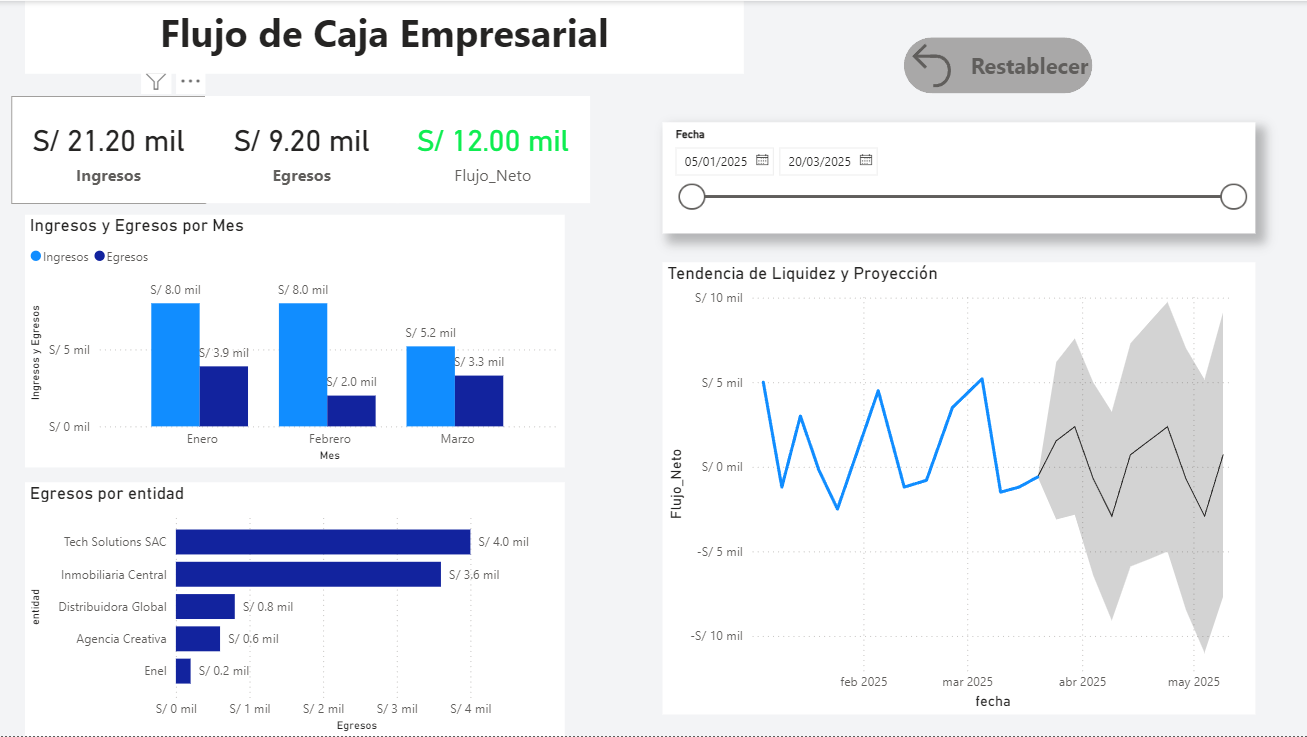

Layout of this report page (visuals, bound fields, positions):
{"tool":"powerbi","page":{"name":"Página 1","canvas":[1280,720],"ordinal":0},"visuals":[{"type":"card","fields":{"Values":["transacciones.Ingresos"]},"box":[11,92.9,190.8,105.2],"z":0},{"type":"card","fields":{"Values":["transacciones.Egresos"]},"box":[200.5,92.9,189.5,105.2],"z":1000},{"type":"card","fields":{"Values":["transacciones.Flujo_Neto"]},"box":[387.6,92.9,189.5,105.2],"z":2000},{"type":"clusteredColumnChart","fields":{"Category":["transacciones.fecha.Variación.Jerarquía de fechas.Mes"],"Y":["transacciones.Ingresos","transacciones.Egresos"]},"box":[24.5,209.1,528.3,247],"z":3000},{"type":"barChart","fields":{"Category":["transacciones.entidad"],"Y":["transacciones.Egresos"]},"box":[24.5,470.8,528.3,249.5],"z":4000},{"type":"lineChart","title":"Tendencia de Liquidez y Proyección","fields":{"Y":["transacciones.Flujo_Neto"],"Category":["transacciones.fecha"]},"box":[648.1,255.6,579.6,442.7],"z":5000},{"type":"actionButton","box":[884.1,35.5,184.6,55],"z":6000},{"type":"slicer","fields":{"Values":["transacciones.fecha"]},"box":[648.1,118.6,579.6,108.8],"z":7000},{"type":"textbox","box":[24.5,0,703.1,70.9],"z":7001}]}

Visuals, with their boxes in screenshot pixels (x1, y1, x2, y2), scaled from the page's 1280x720 canvas onto the 1307x737 screenshot:
card - transacciones.Ingresos: crop(11, 95, 206, 203)
card - transacciones.Egresos: crop(205, 95, 398, 203)
card - transacciones.Flujo_Neto: crop(396, 95, 589, 203)
clusteredColumnChart - transacciones.fecha.Variación.Jerarquía de fechas.Mes x transacciones.Ingresos: crop(25, 214, 564, 467)
barChart - transacciones.entidad x transacciones.Egresos: crop(25, 482, 564, 736)
"Tendencia de Liquidez y Proyección" lineChart: crop(662, 262, 1254, 715)
actionButton: crop(903, 36, 1091, 93)
slicer - transacciones.fecha: crop(662, 121, 1254, 233)
textbox: crop(25, 0, 743, 73)
